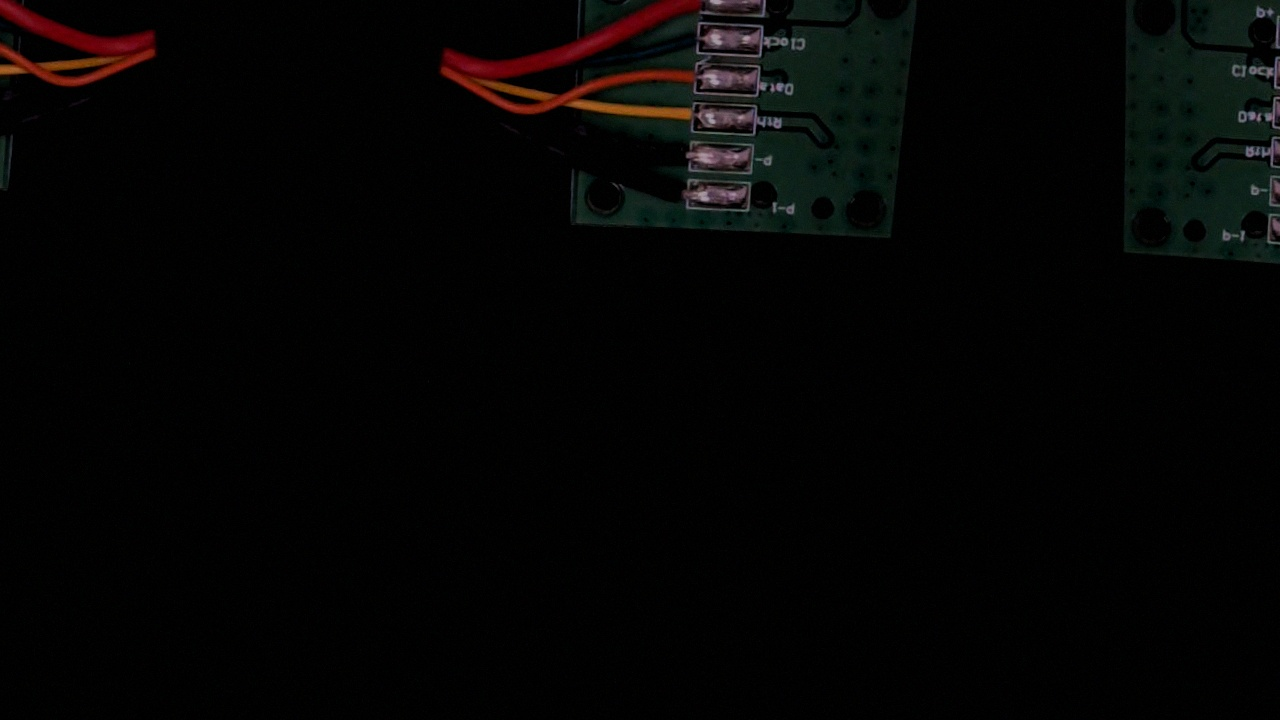Black: (637, 136, 711, 174)
Black1: (638, 176, 707, 213)
Green: (653, 19, 725, 57)
Orange: (643, 58, 717, 94)
Red: (650, 0, 722, 16)
Yellow: (637, 97, 713, 136)
